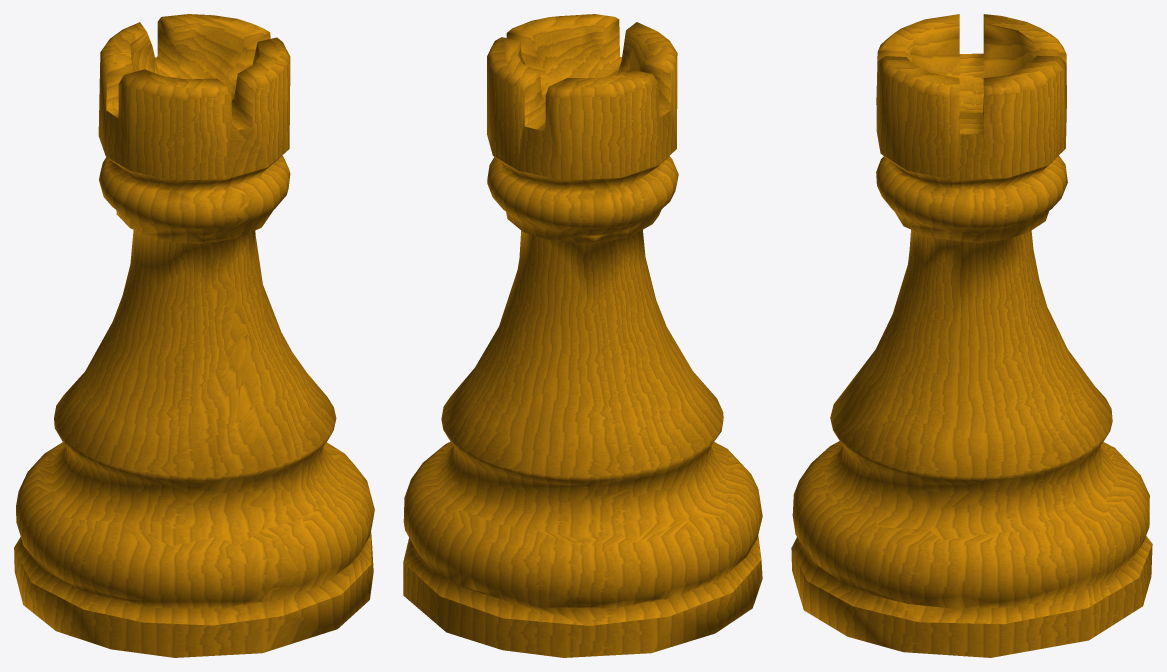
File: Rook_low_uv.obj
3 views of the same model, side by side, from view 1: azimuth 30°, elevation 25°; view 2: azimuth 150°, elevation 25°; view 3: azimuth 270°, elevation 25° (orthographic).
Parts seen in each view (by area): view 1: Rook; view 2: Rook; view 3: Rook.
Part boxes in pixels (left/top/right/bottom): Rook: left=14, top=14, right=374, bottom=657; Rook: left=403, top=14, right=762, bottom=657; Rook: left=791, top=14, right=1152, bottom=657.
Size of the model in its own units: 1.19 by 1.93 by 1.19.
